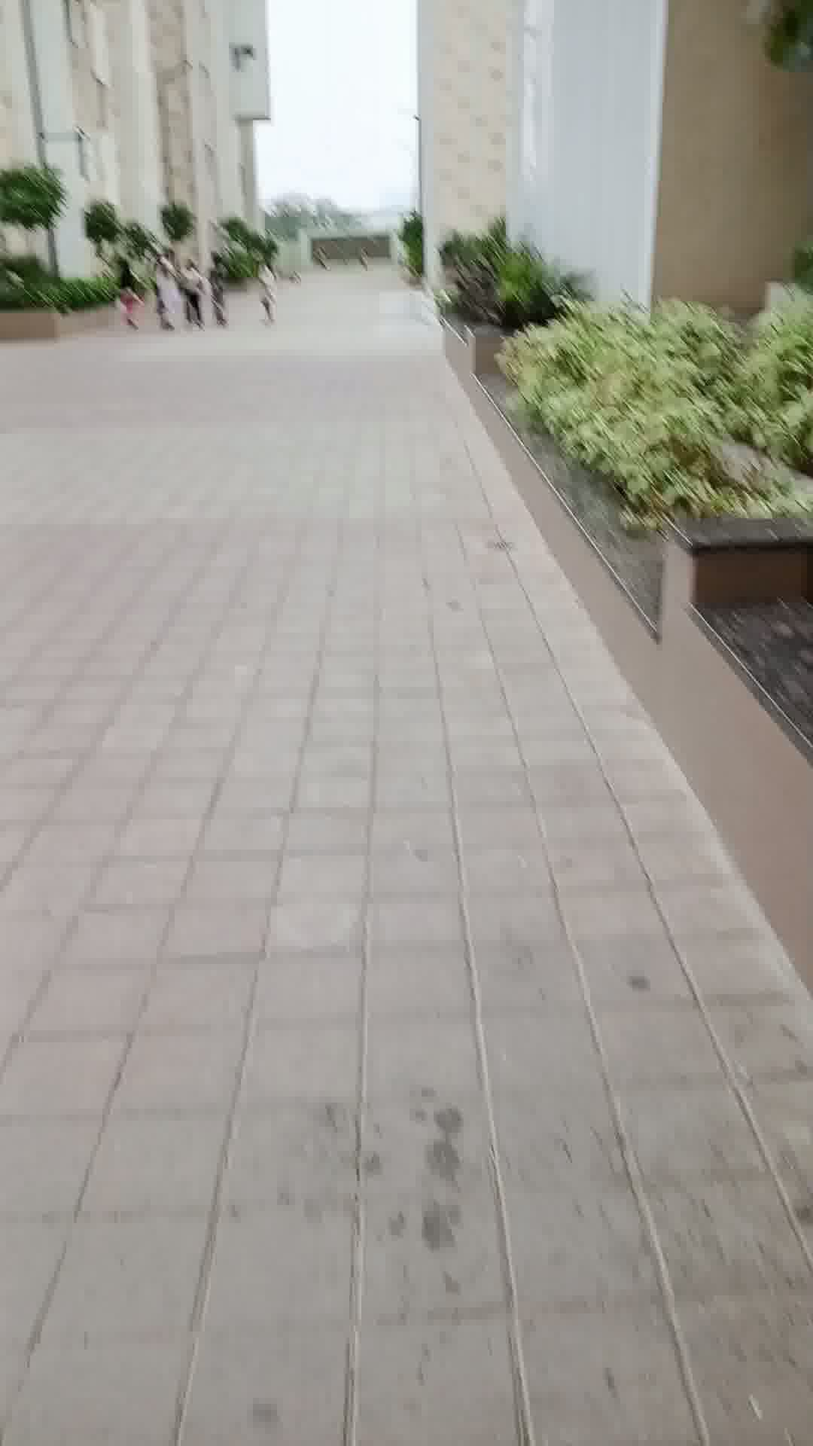tree: (0, 128, 63, 328), (74, 159, 117, 299), (155, 155, 198, 272)
